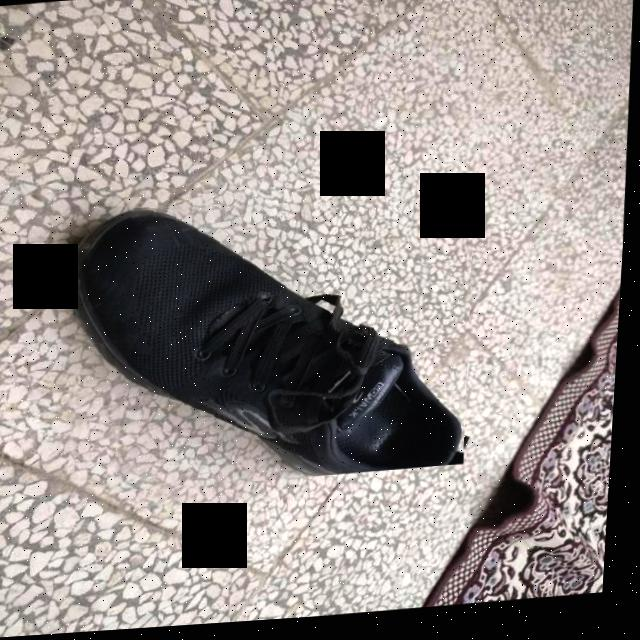shoe: (64, 185, 483, 499)
